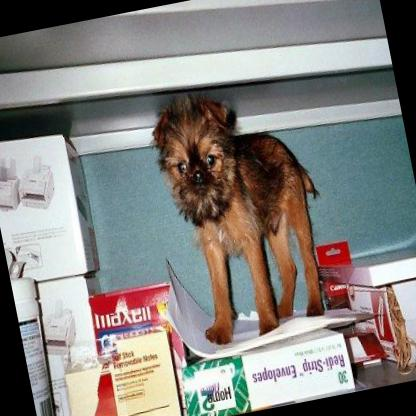Brabancon_griffon: (142, 72, 344, 348)
